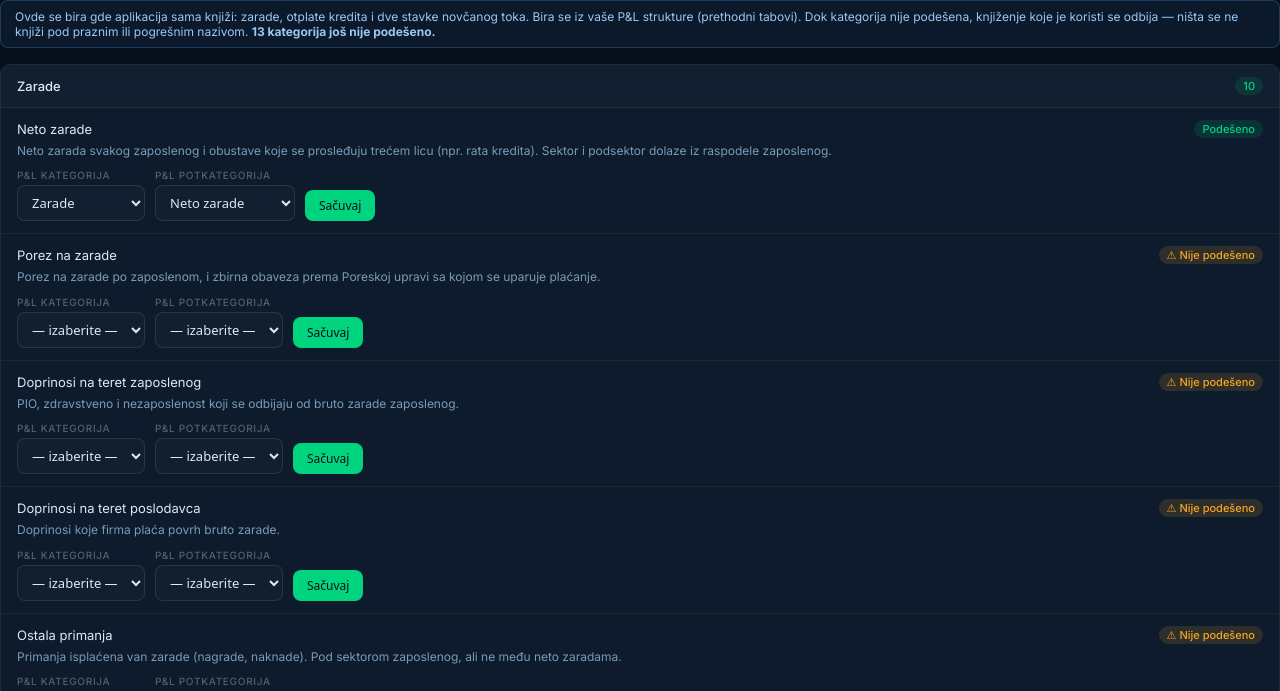
Test: Podešavanja → Sistemske kategorije › clears what hangs below a field when the field changes
The width and height of the screenshot is (1280, 691).
Expected: the element with test id "role-payroll_net_salary" is shown, [1,108,1279,234]
Expected: the dropdown named "Neto zarade — P&L potkategorija" shows "Neto zarade", [155,185,295,221]
Select "Krediti" in the dropdown named "Neto zarade — P&L kategorija": (81, 203) [17,185,145,221]
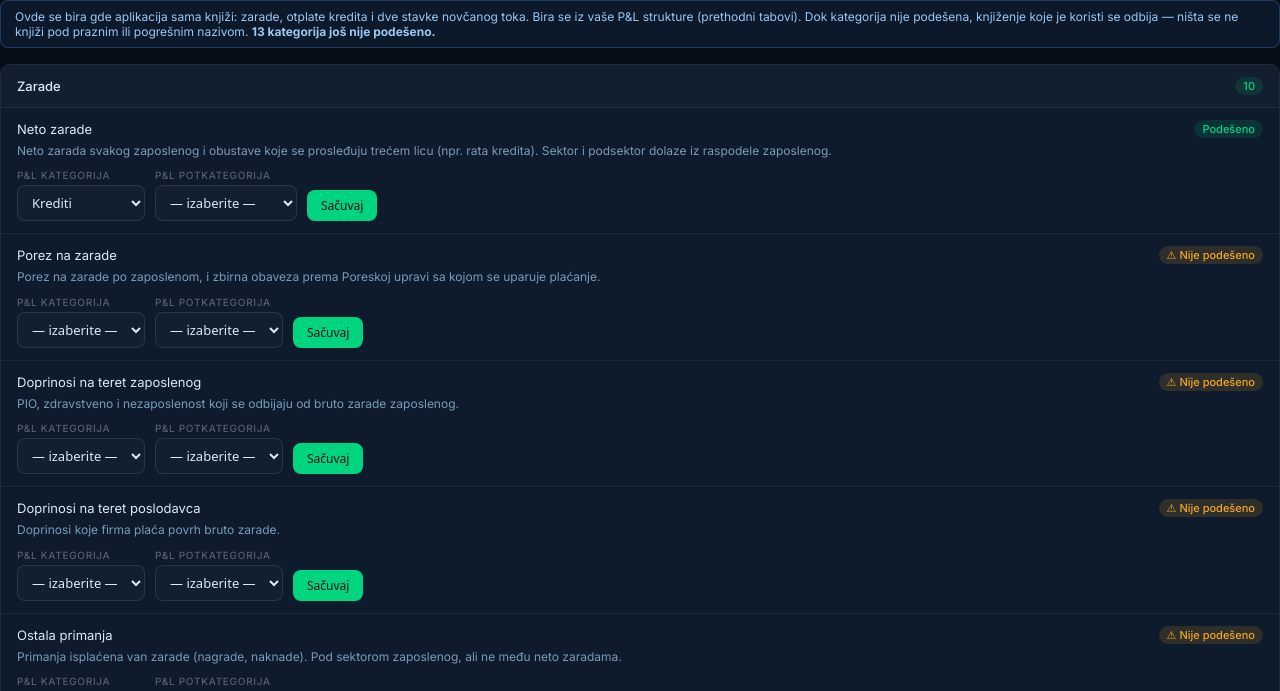
Now the dropdown named "Neto zarade — P&L potkategorija" shows "— izaberite —", box [155,185,297,221]
